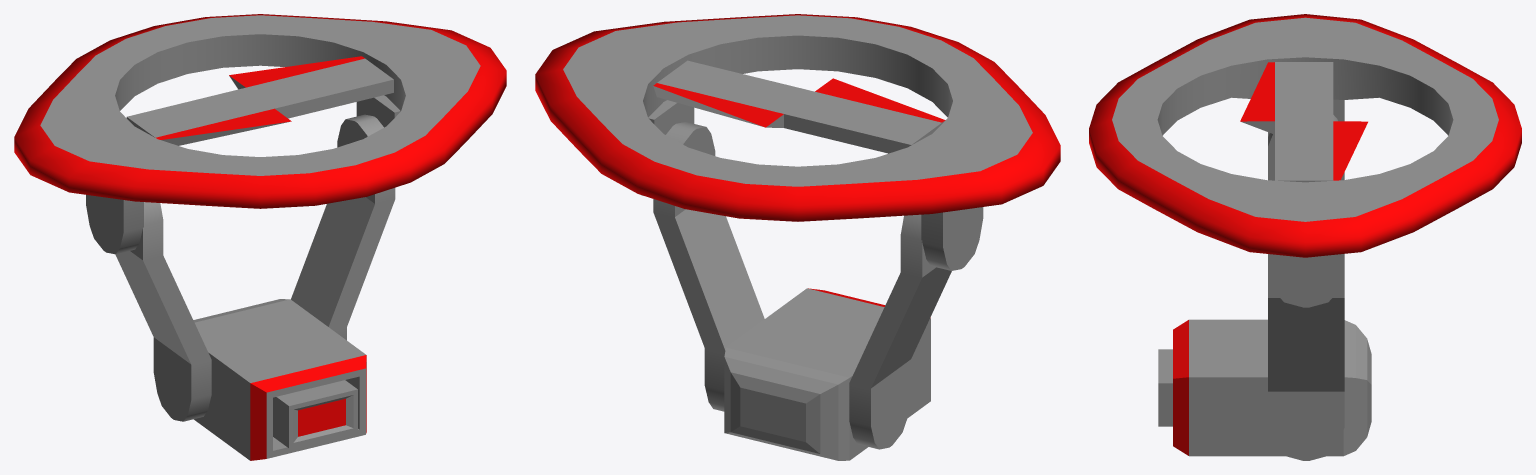
Rendered from repair_drone.FBX.
3 renders of one model, left to right at view 1: azimuth 30°, elevation 25°; view 2: azimuth 150°, elevation 25°; view 3: azimuth 270°, elevation 25°, orthographic. The views are drawn at different scales.
Visible parts, largest first — view 1: chassis, red_on_ring, gun, blade, red_on_gun, blade_red; view 2: chassis, red_on_ring, gun, blade, blade_red; view 3: chassis, red_on_ring, gun, blade, blade_red, red_on_gun.
Boxes of the visible parts, x1,y1,x2,y2 form: chassis: (40,15,480,421); red_on_ring: (14,14,506,208); gun: (193,299,365,460); blade: (126,58,393,145); red_on_gun: (250,355,366,460); blade_red: (155,56,364,139); chassis: (563,15,1032,449); red_on_ring: (535,14,1060,221); gun: (724,288,930,460); blade: (653,60,944,153); blade_red: (653,78,945,127); chassis: (1112,17,1498,460); red_on_ring: (1089,14,1521,257); gun: (1158,319,1371,456); blade: (1241,62,1333,182); blade_red: (1240,62,1367,180); red_on_gun: (1173,320,1188,455).
Bounding box in the file's own units: 463 × 295 × 371.
